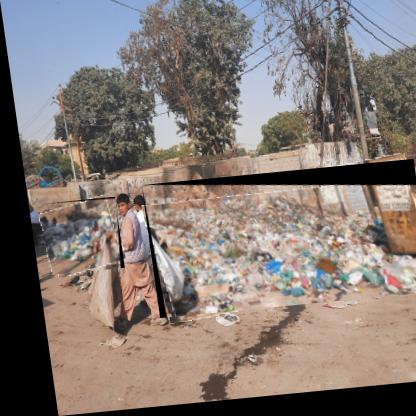Garbage: (136, 167, 416, 323), (35, 199, 119, 277)
